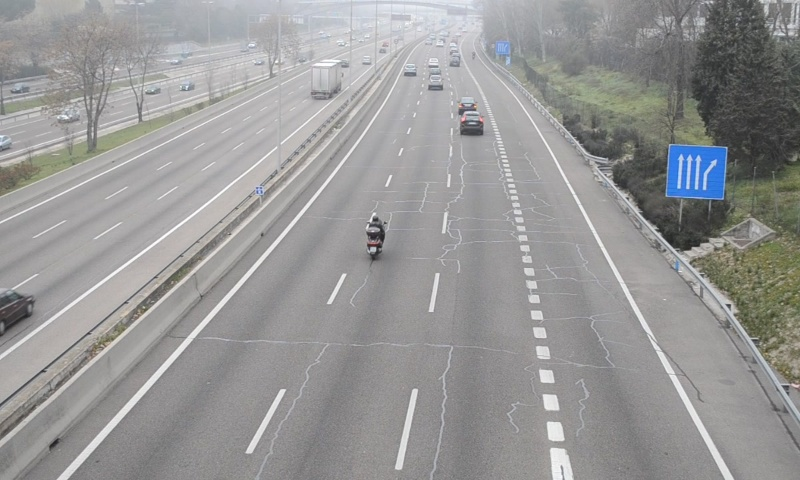car: (460, 112, 484, 134), (457, 96, 477, 113)
motorcycle: (364, 215, 386, 263)
